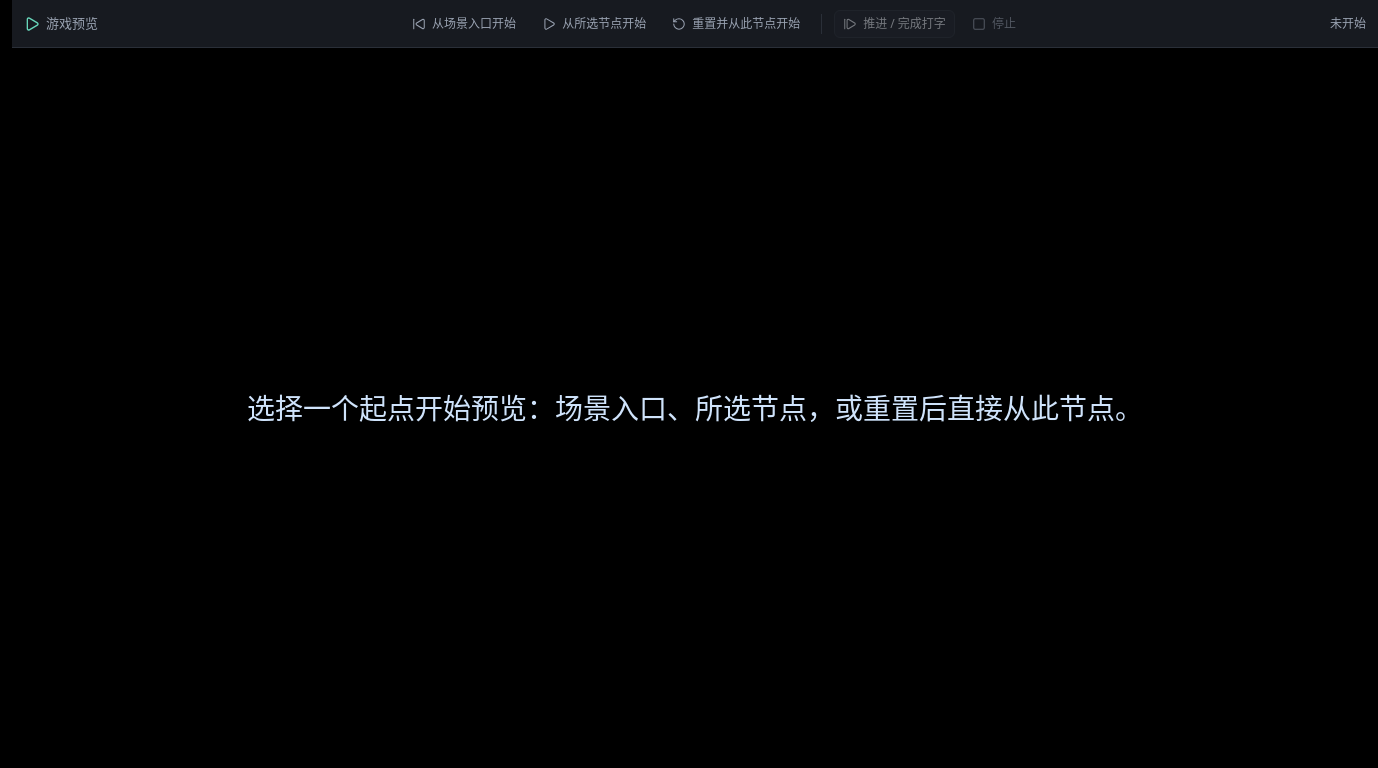
Test case: GameplayPreview › renders the shared long-text panel for a long_text prompt
Click the button "从场景入口开始" at (464, 24), box [403,10,525,38]
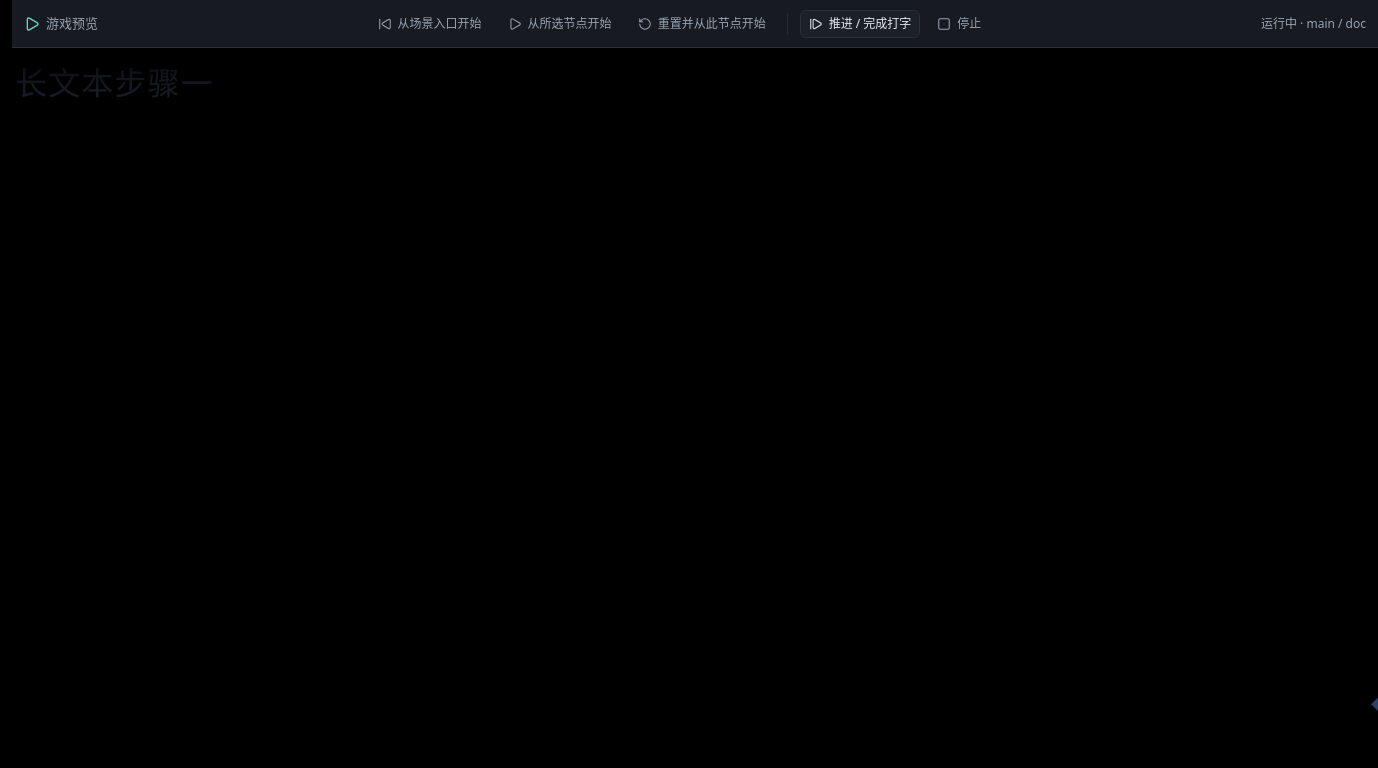
Expected: the element with class "long-text-panel" is shown
